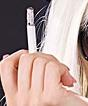smoke: (27, 7, 37, 59)
